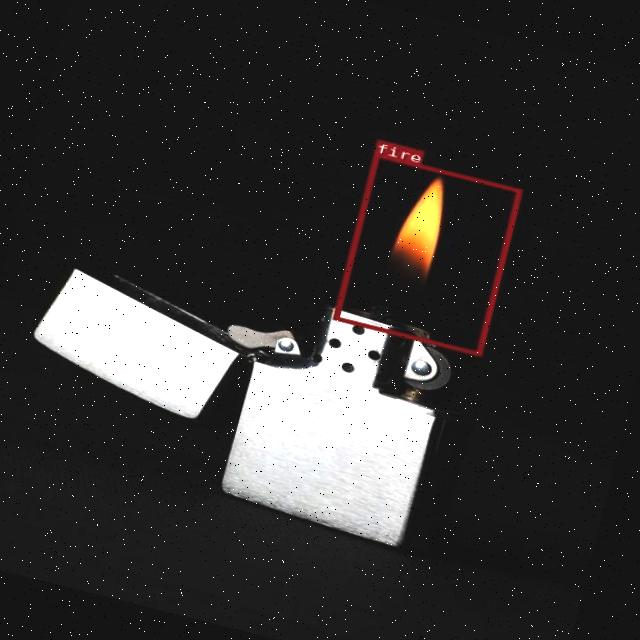fire: (332, 151, 521, 355)
